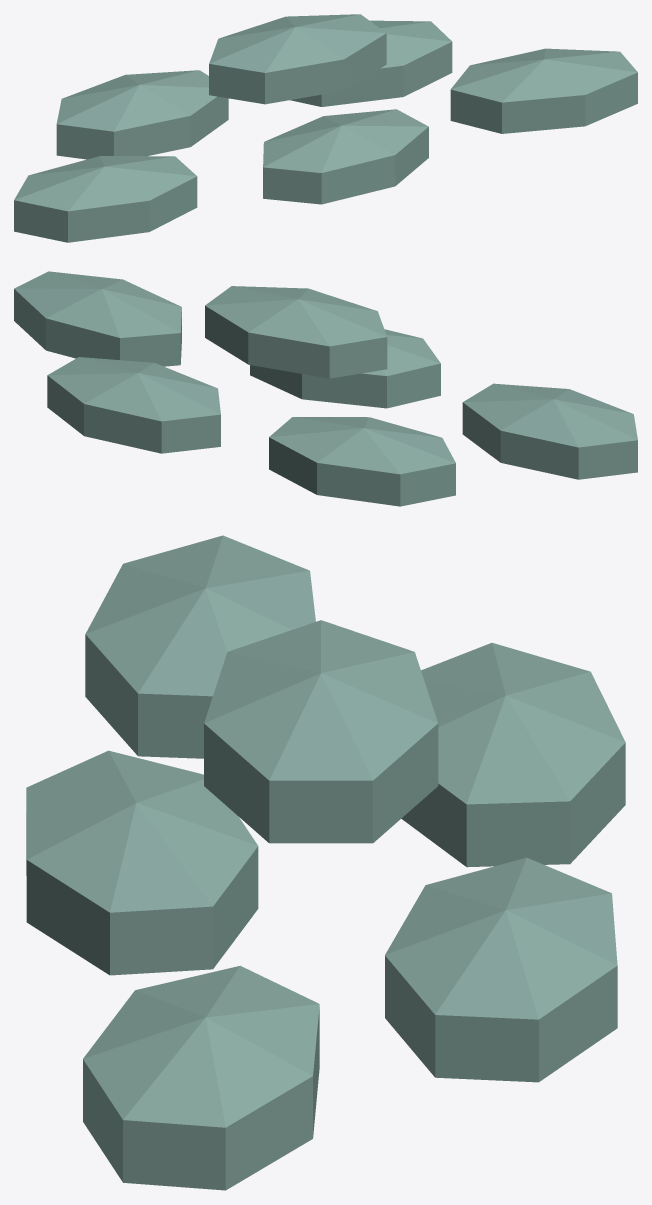
Rendered from ce_ammo_gae_sling_plasteel_b.obj.
The picture shows the model from 3 angles, top to bottom: view 1: azimuth 30°, elevation 25°; view 2: azimuth 150°, elevation 25°; view 3: azimuth 270°, elevation 25°; orthographic projection. The views are drawn at different scales.
Visible parts, largest first — view 1: ce_ammo_gae_sling_plasteel_b_2, ce_ammo_gae_sling_plasteel_b_0, ce_ammo_gae_sling_plasteel_b_5, ce_ammo_gae_sling_plasteel_b_1, ce_ammo_gae_sling_plasteel_b_3, ce_ammo_gae_sling_plasteel_b_4; view 2: ce_ammo_gae_sling_plasteel_b_3, ce_ammo_gae_sling_plasteel_b_5, ce_ammo_gae_sling_plasteel_b_0, ce_ammo_gae_sling_plasteel_b_4, ce_ammo_gae_sling_plasteel_b_2, ce_ammo_gae_sling_plasteel_b_1; view 3: ce_ammo_gae_sling_plasteel_b_2, ce_ammo_gae_sling_plasteel_b_5, ce_ammo_gae_sling_plasteel_b_4, ce_ammo_gae_sling_plasteel_b_1, ce_ammo_gae_sling_plasteel_b_3, ce_ammo_gae_sling_plasteel_b_0.
Part boxes in pixels (x1=…): ce_ammo_gae_sling_plasteel_b_2: x1=450, y1=48, x2=637, y2=133; ce_ammo_gae_sling_plasteel_b_0: x1=14, y1=156, x2=197, y2=242; ce_ammo_gae_sling_plasteel_b_5: x1=209, y1=14, x2=386, y2=104; ce_ammo_gae_sling_plasteel_b_1: x1=263, y1=109, x2=428, y2=204; ce_ammo_gae_sling_plasteel_b_3: x1=56, y1=70, x2=228, y2=159; ce_ammo_gae_sling_plasteel_b_4: x1=290, y1=20, x2=452, y2=106; ce_ammo_gae_sling_plasteel_b_3: x1=269, y1=417, x2=455, y2=506; ce_ammo_gae_sling_plasteel_b_5: x1=205, y1=286, x2=387, y2=378; ce_ammo_gae_sling_plasteel_b_0: x1=462, y1=383, x2=637, y2=479; ce_ammo_gae_sling_plasteel_b_4: x1=47, y1=357, x2=220, y2=453; ce_ammo_gae_sling_plasteel_b_2: x1=14, y1=271, x2=181, y2=366; ce_ammo_gae_sling_plasteel_b_1: x1=250, y1=329, x2=440, y2=408; ce_ammo_gae_sling_plasteel_b_2: x1=83, y1=965, x2=319, y2=1190; ce_ammo_gae_sling_plasteel_b_5: x1=204, y1=620, x2=438, y2=843; ce_ammo_gae_sling_plasteel_b_4: x1=385, y1=857, x2=617, y2=1082; ce_ammo_gae_sling_plasteel_b_1: x1=26, y1=750, x2=258, y2=975; ce_ammo_gae_sling_plasteel_b_3: x1=401, y1=642, x2=625, y2=867; ce_ammo_gae_sling_plasteel_b_0: x1=85, y1=535, x2=315, y2=758.
Bounding box in the file's own units: 0.6071 × 0.122 × 0.2596.
